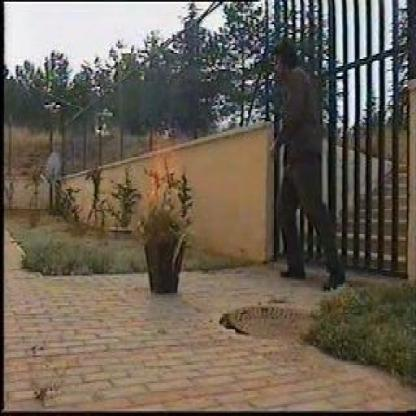foggia-v2-map80-epoch100 - v1 4323: (149, 141, 173, 211)
